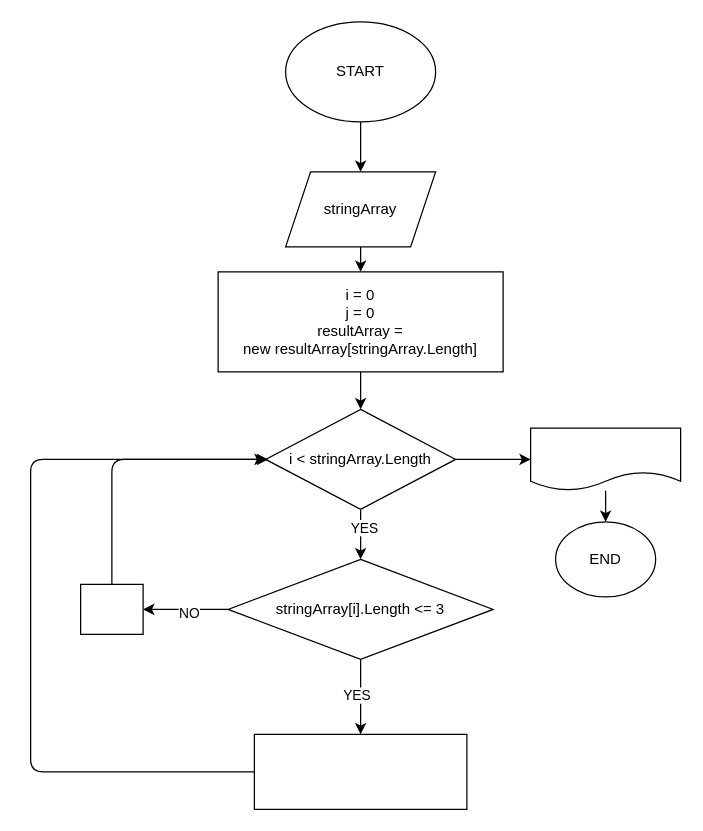
This 703x831 diagram has some shape labels left out. Each missing label, with the box of its shape:
i++: (79, 583, 143, 634)
resultArray: (529, 427, 681, 491)
resultArray[j] = stringArray[i] j++ i++: (253, 733, 467, 809)
